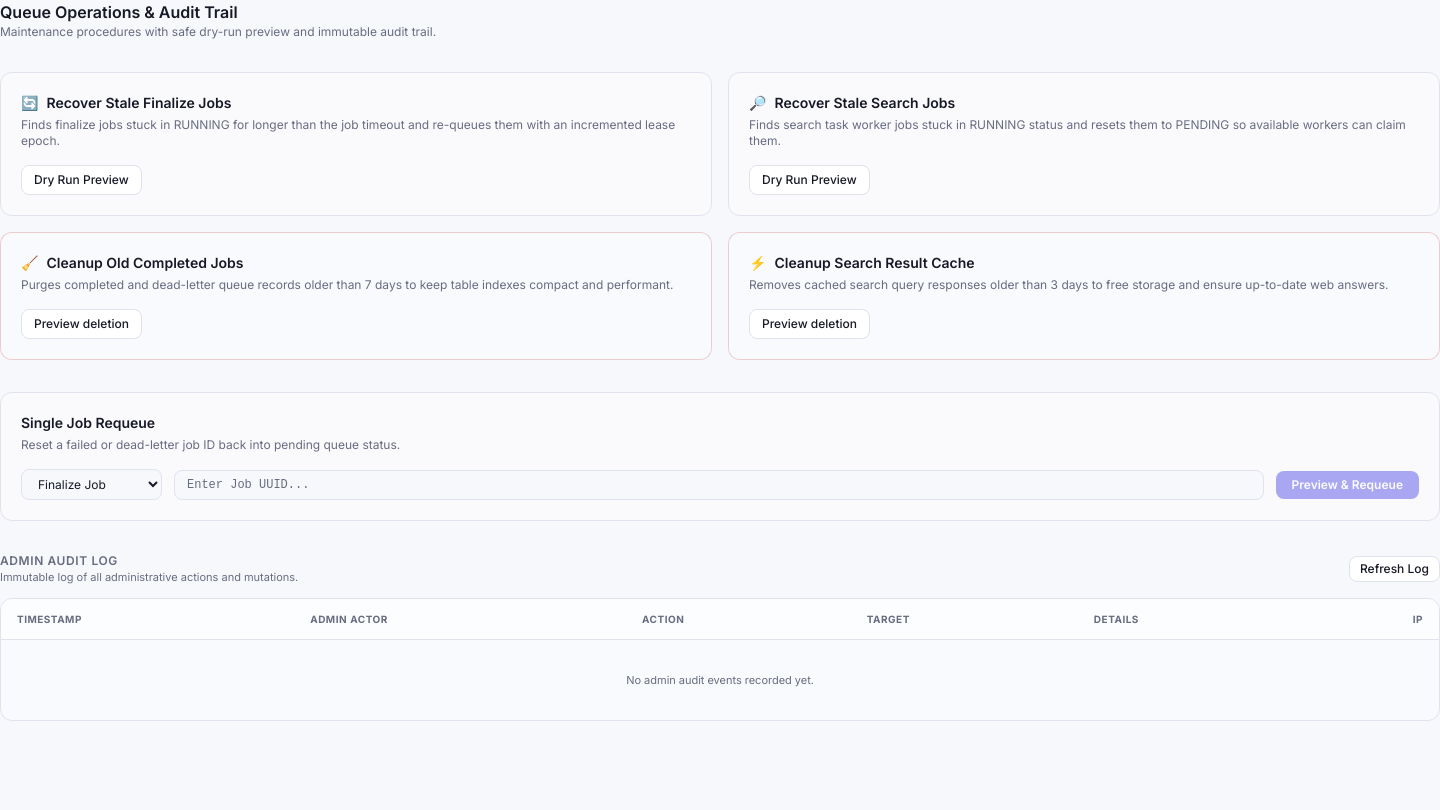
Test case: admin OperationsTab › explains a refused finalize requeue: Only the finalize job of a failed research can be requeued
The width and height of the screenshot is (1440, 810).
Type "0f5e7c1a-2b3d-4e5f-8a9b-0c1d2e3f4a5b" into the field with placeholder "Enter Job UUID...". click: (719, 484)
box: [174,470,1264,500]
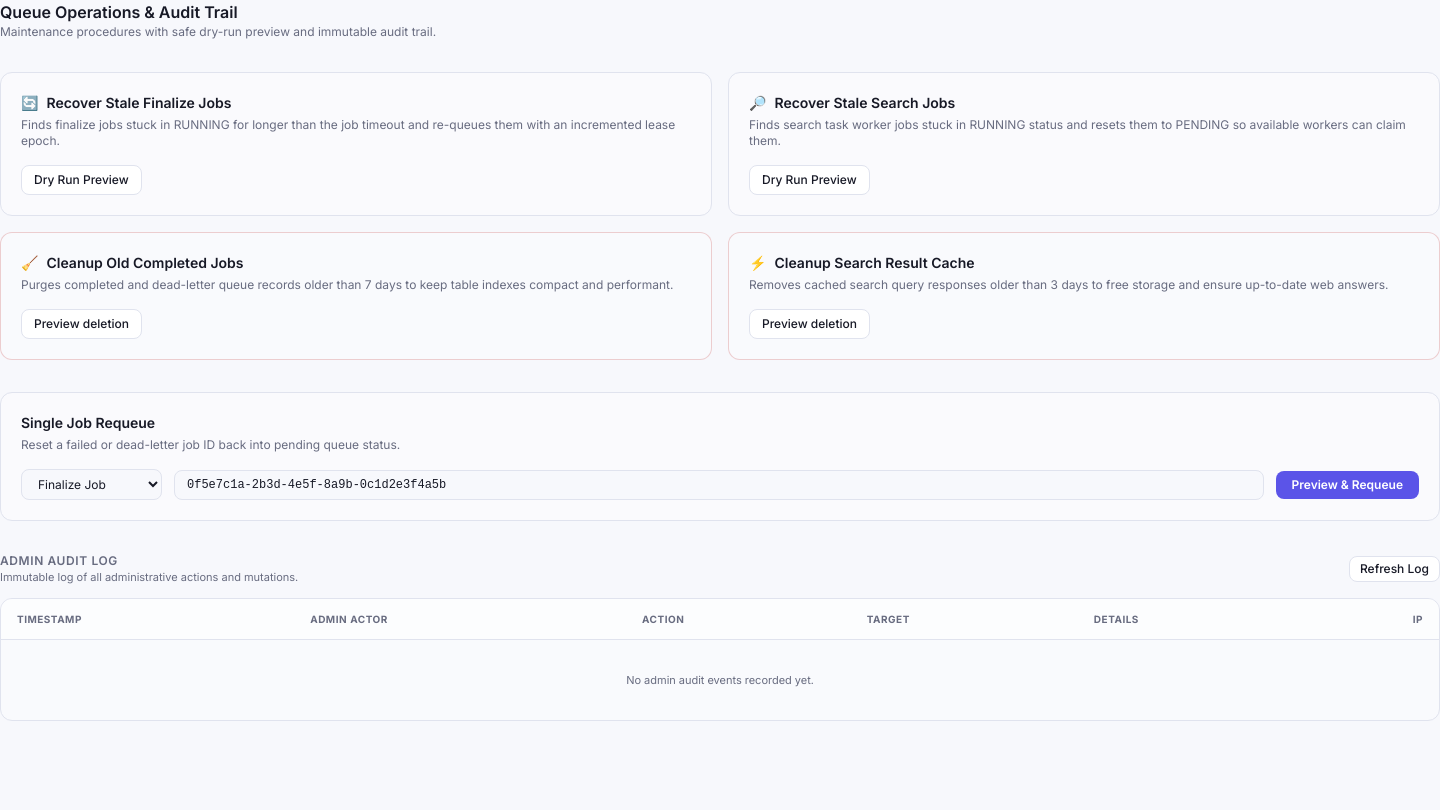
Click the button "Preview & Requeue". click: (1347, 484)
box: [1276,470,1419,498]
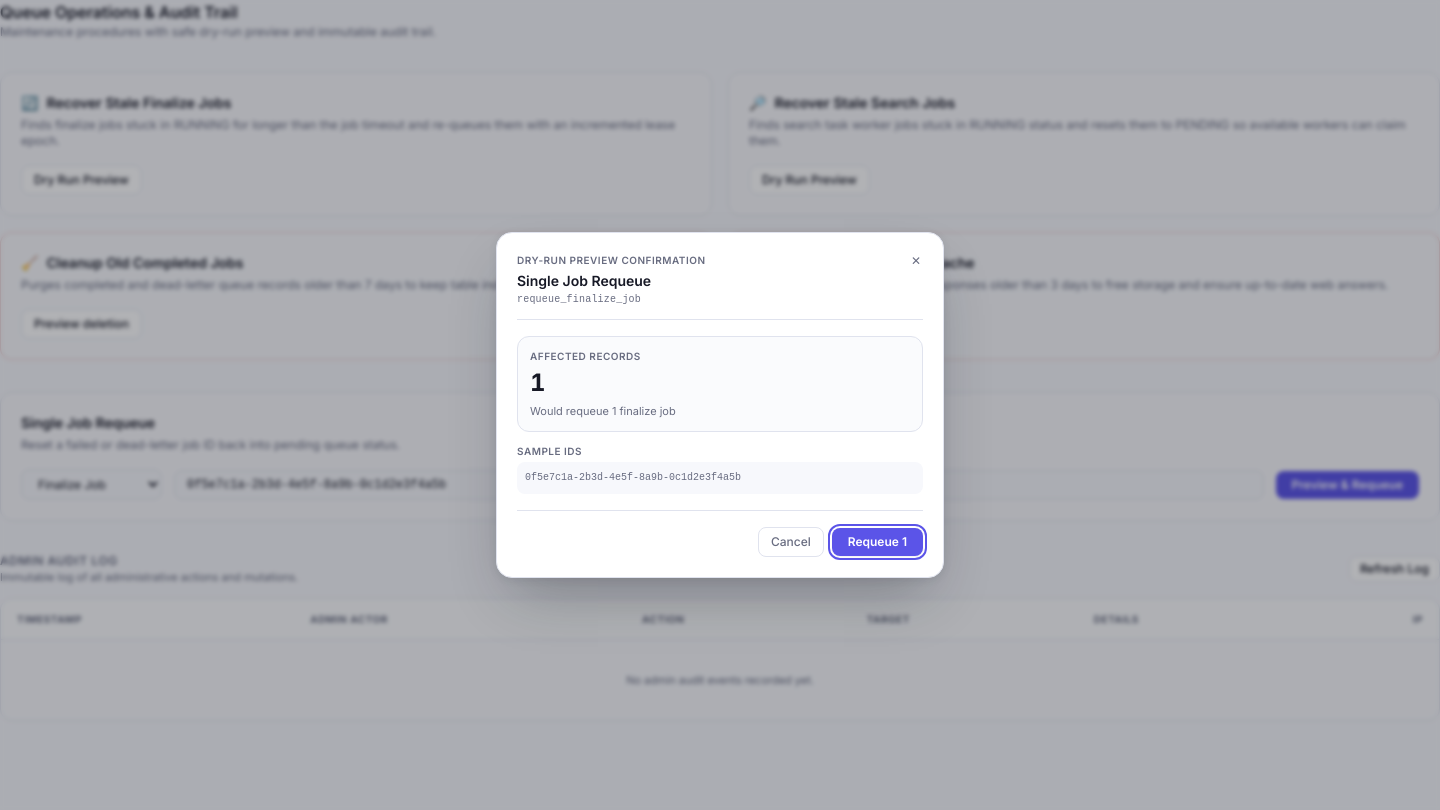
Click the button with test id "confirm-op". click: (877, 542)
box: [832,528,923,556]
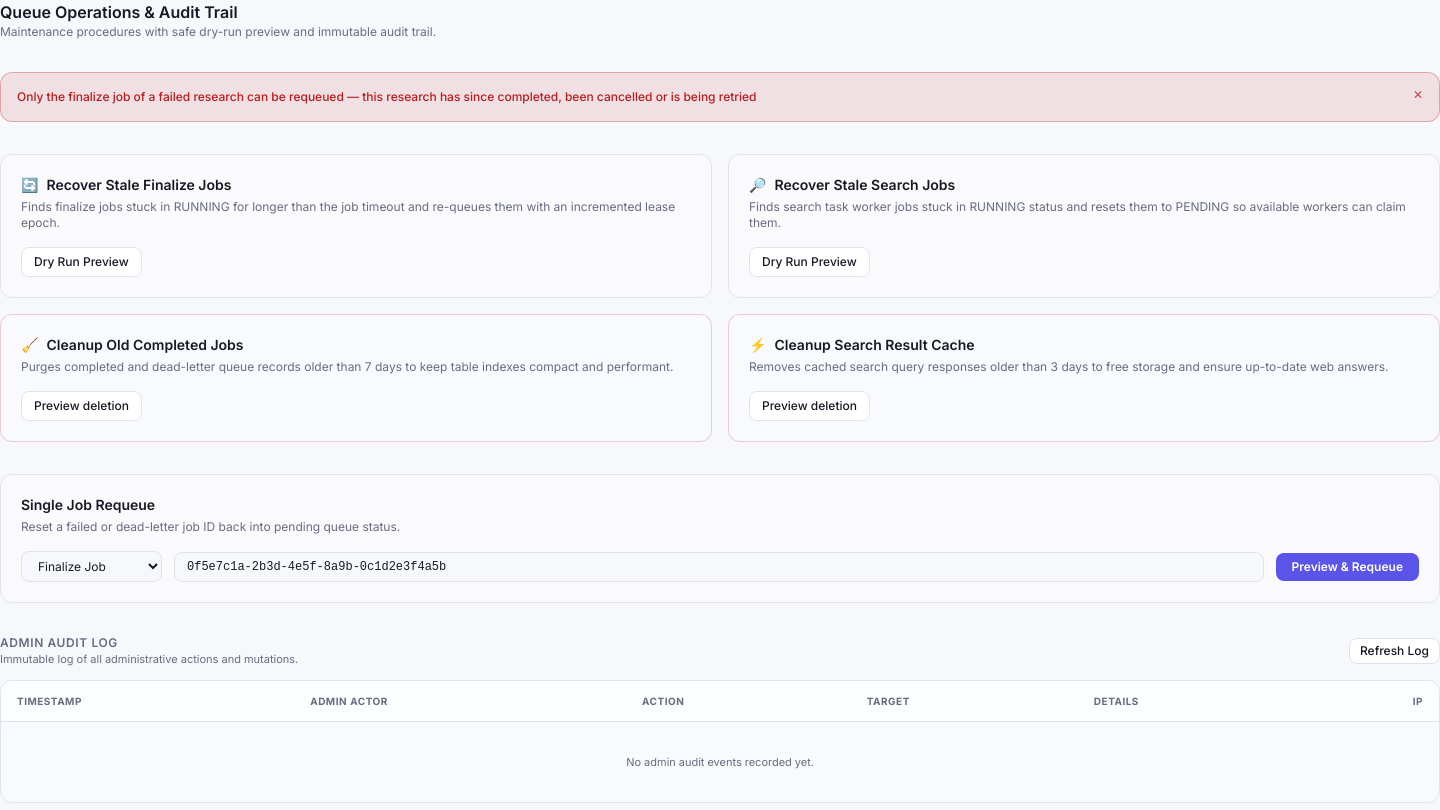
Expected: the text "Only the finalize job of a failed research can be requeued — this research has since completed, been cancelled or is being retried" is shown, [17,89,756,104]
